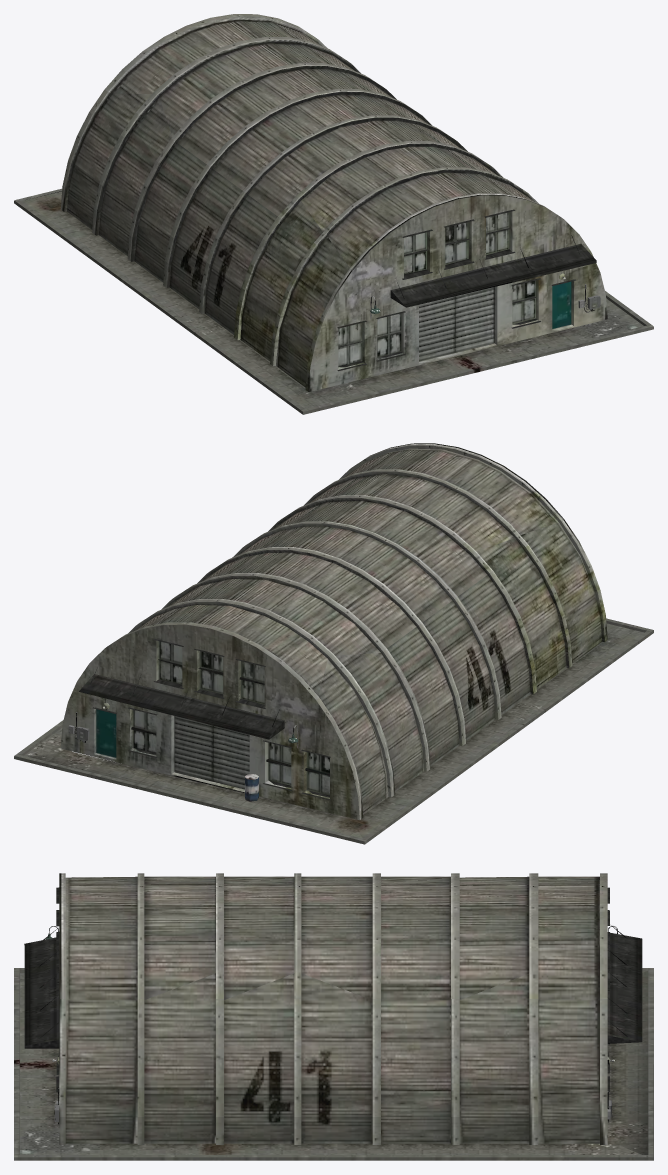
The model's file is hangar_quonset_lod1.glb.
The picture shows the model from 3 angles, top to bottom: view 1: azimuth 30°, elevation 25°; view 2: azimuth 150°, elevation 25°; view 3: azimuth 270°, elevation 25°; orthographic projection. The views are drawn at different scales.
Parts seen in each view (by area): view 1: hangar_quonset; view 2: hangar_quonset; view 3: hangar_quonset.
Boxes of the visible parts, <box> form: hangar_quonset: <box>14,14,653,414</box>; hangar_quonset: <box>14,443,653,844</box>; hangar_quonset: <box>14,873,653,1160</box>.
Size of the model in its own units: 19.22 by 8.27 by 27.44.
1 material, 1 textured.
